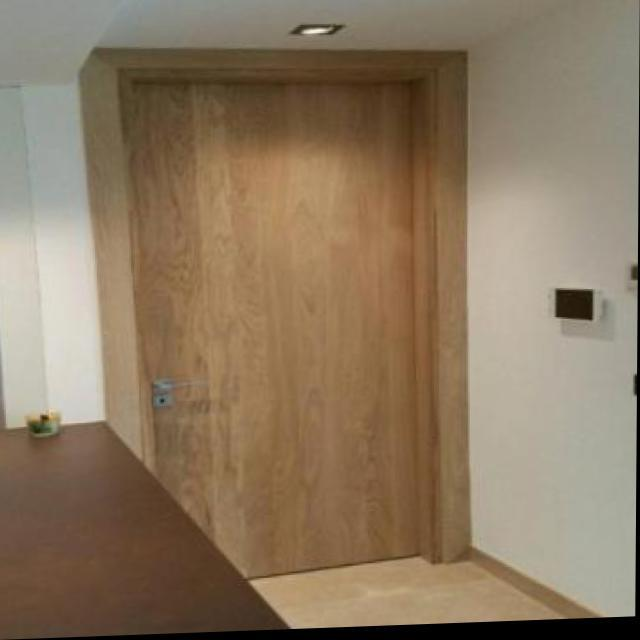door_handle: (151, 379, 209, 399)
